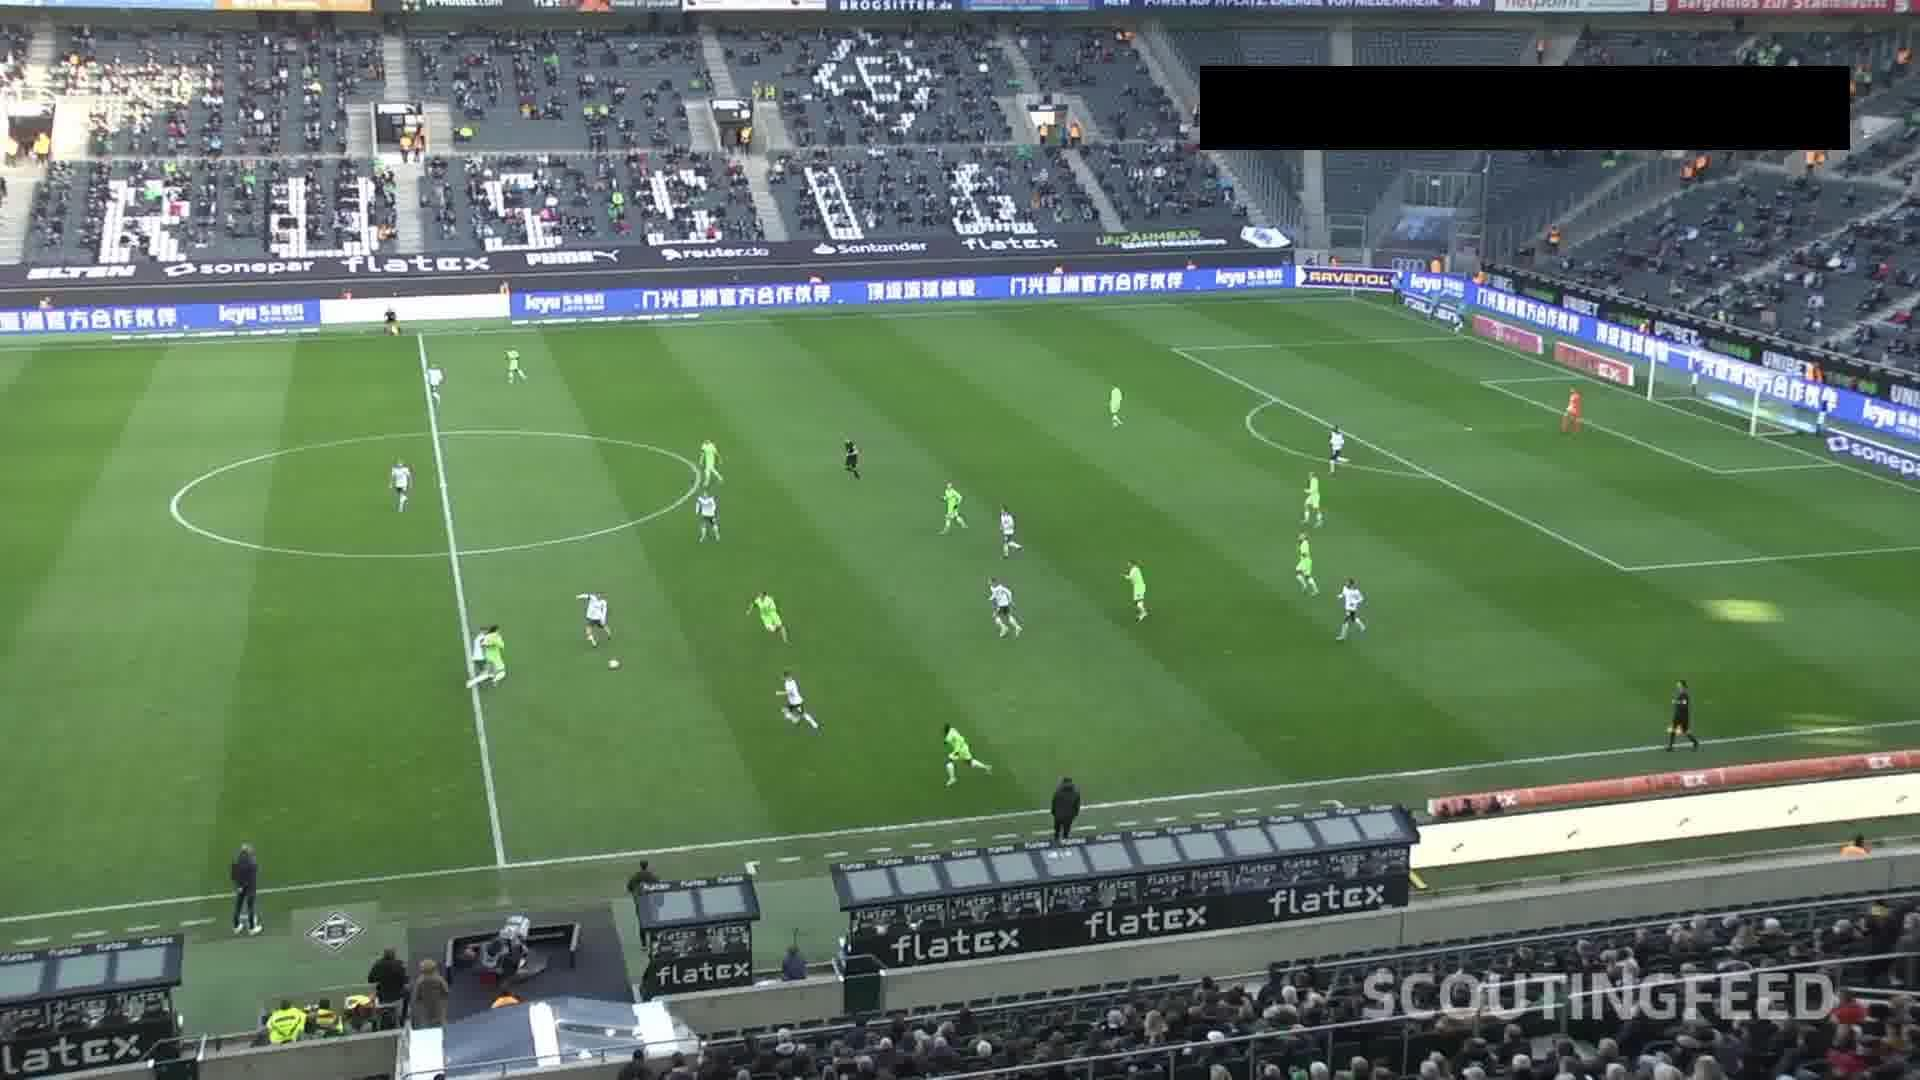football: (607, 657, 622, 673)
